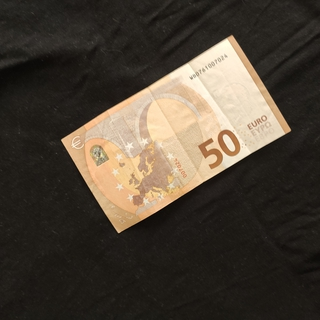50EUROBack: (58, 33, 292, 234)
